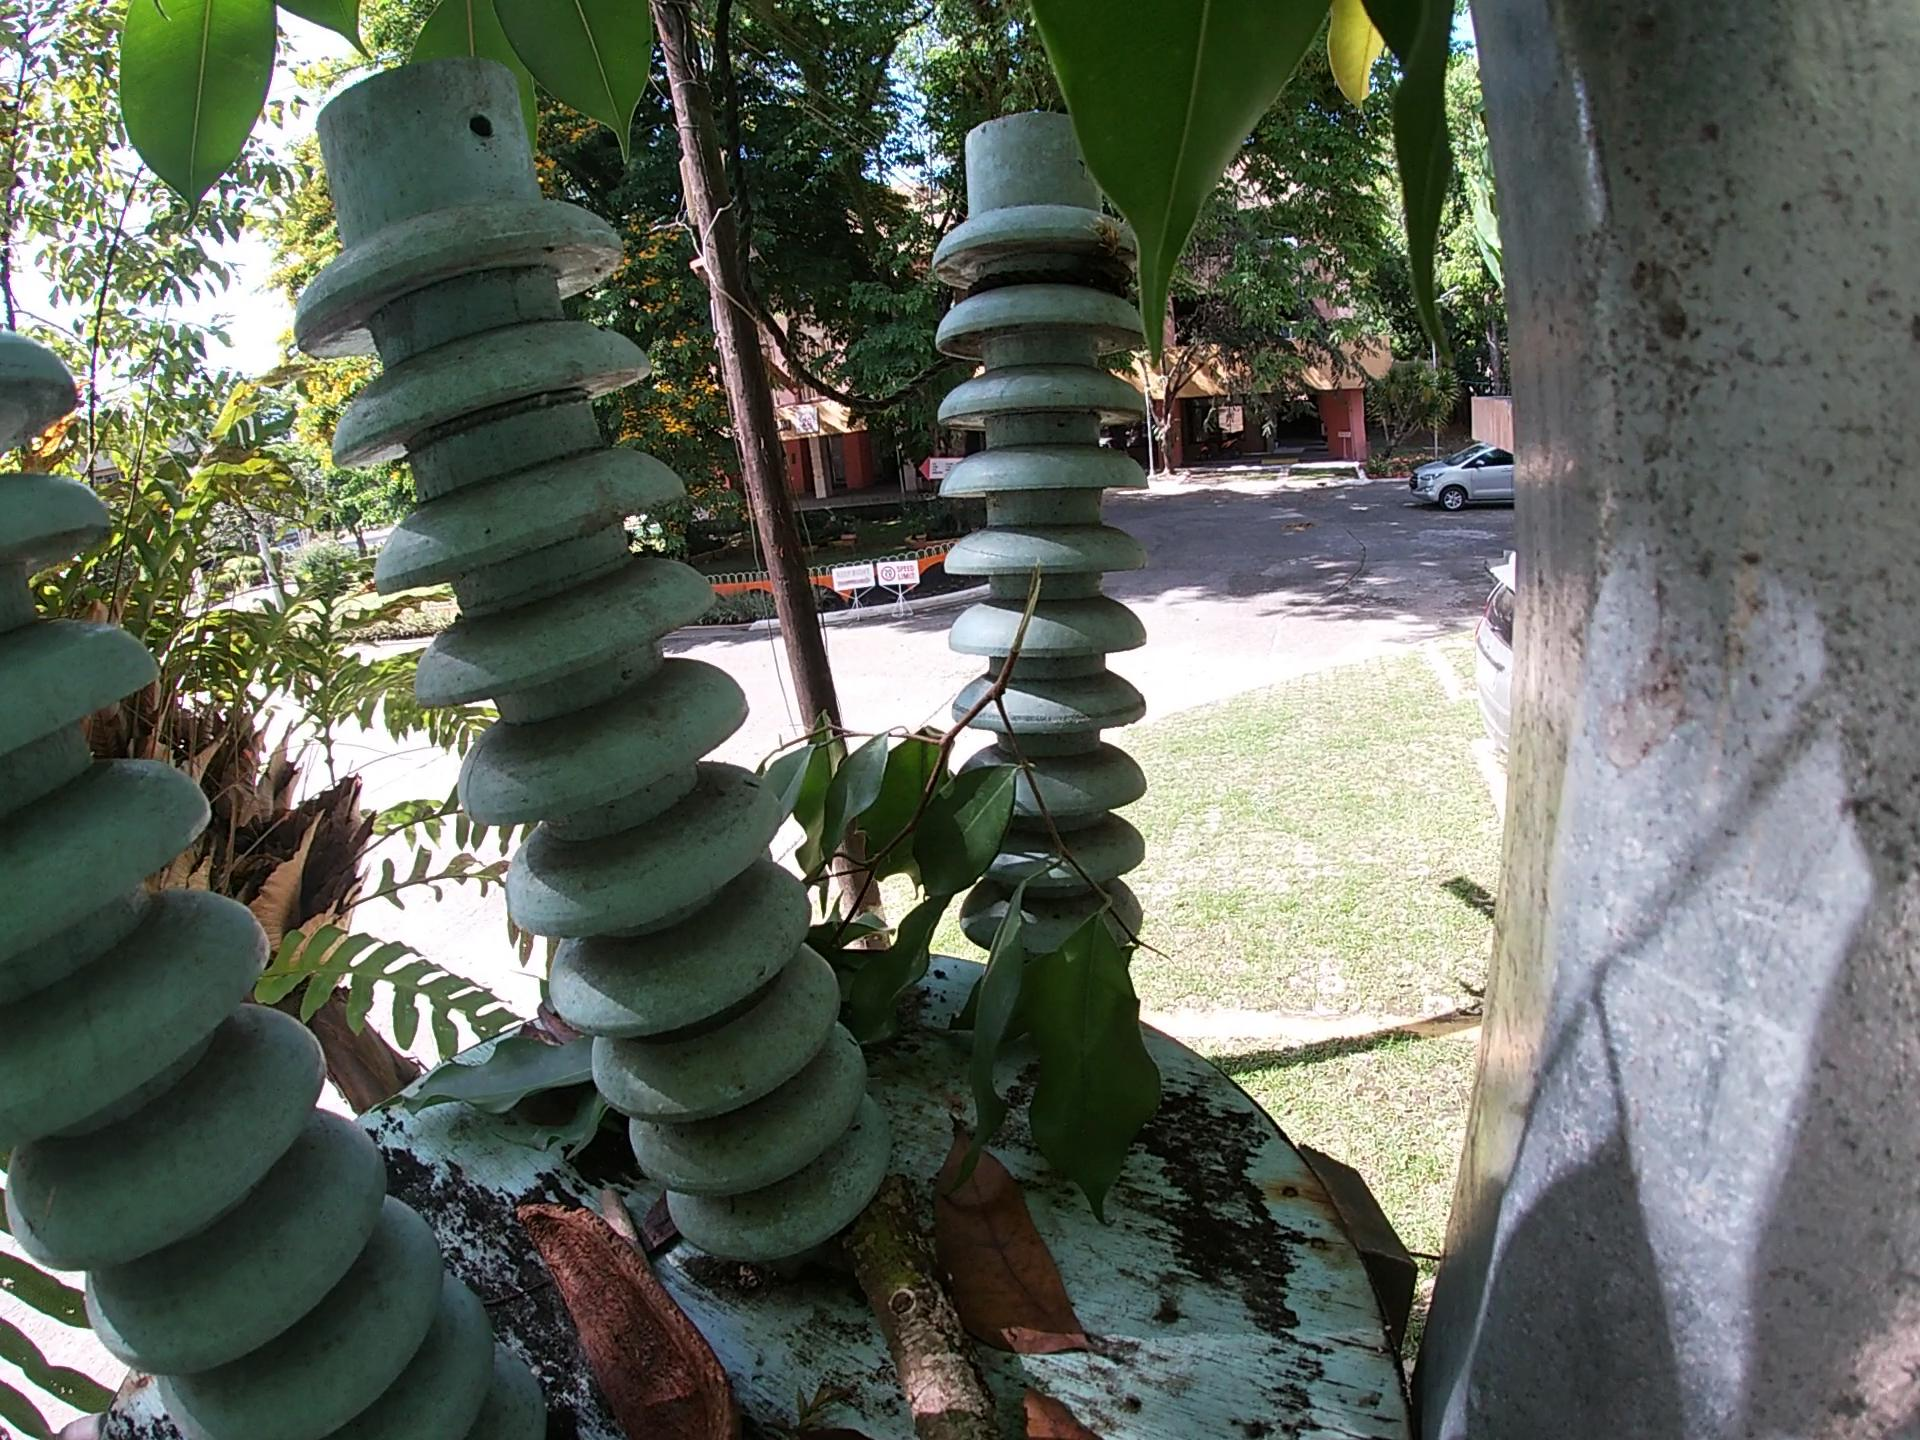branch with leaves: (757, 551, 1172, 1206)
leaf: (384, 1000, 647, 1174), (937, 1125, 1105, 1363), (1001, 1372, 1107, 1440), (770, 1379, 863, 1440)
mahogany fruit: (493, 1198, 735, 1435), (528, 1000, 585, 1066)
tree branch: (853, 1206, 990, 1440), (599, 1184, 656, 1258)
